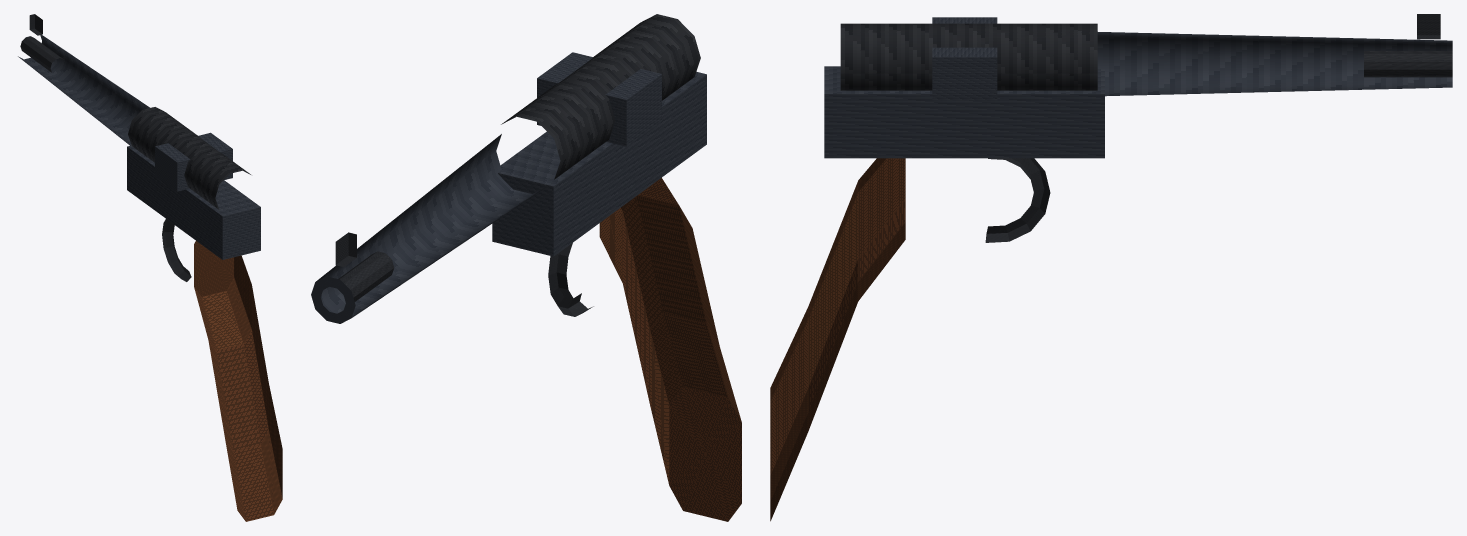
File: luger_p08.glb
3 views of the same model, side by side, from view 1: azimuth 30°, elevation 25°; view 2: azimuth 150°, elevation 25°; view 3: azimuth 270°, elevation 25° (orthographic). The views are drawn at different scales.
Parts seen in each view (by area): view 1: WeaponMesh; view 2: WeaponMesh; view 3: WeaponMesh.
Boxes of the visible parts, x1,y1,x2,y2 form: WeaponMesh: [18, 14, 282, 521]; WeaponMesh: [311, 14, 741, 521]; WeaponMesh: [770, 14, 1452, 521].
Bounding box in the file's own units: 0.032 × 0.1851 × 0.2307.
Materials: 3 (3 with a texture image).
